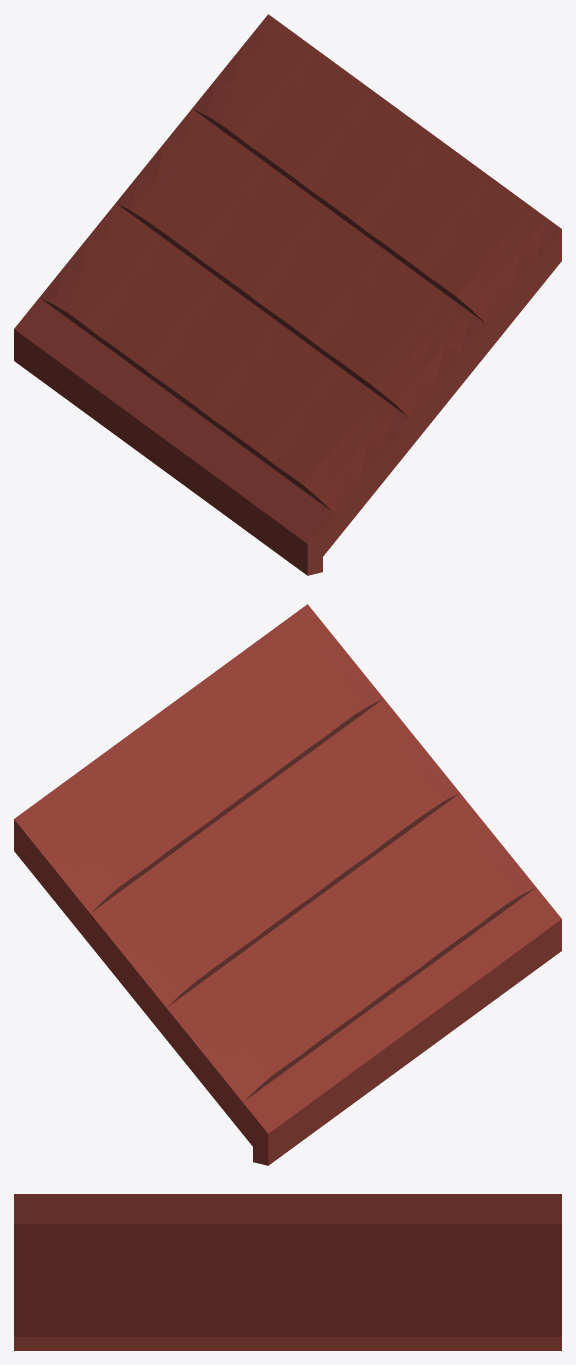
Rendered from 884_tile_right_slope_eave.fbx.
3 renders of one model, top to bottom at view 1: azimuth 30°, elevation 25°; view 2: azimuth 150°, elevation 25°; view 3: azimuth 270°, elevation 25°, orthographic. The views are drawn at different scales.
Parts seen in each view (by area): view 1: 884_tile_right_slope_eave; view 2: 884_tile_right_slope_eave; view 3: 884_tile_right_slope_eave.
Part boxes in pixels (<box>): 884_tile_right_slope_eave: <box>14,14,561,575</box>; 884_tile_right_slope_eave: <box>14,604,561,1165</box>; 884_tile_right_slope_eave: <box>14,1194,561,1350</box>.
Size of the model in its own units: 1 by 1.07 by 2.
1 material, 1 textured.
